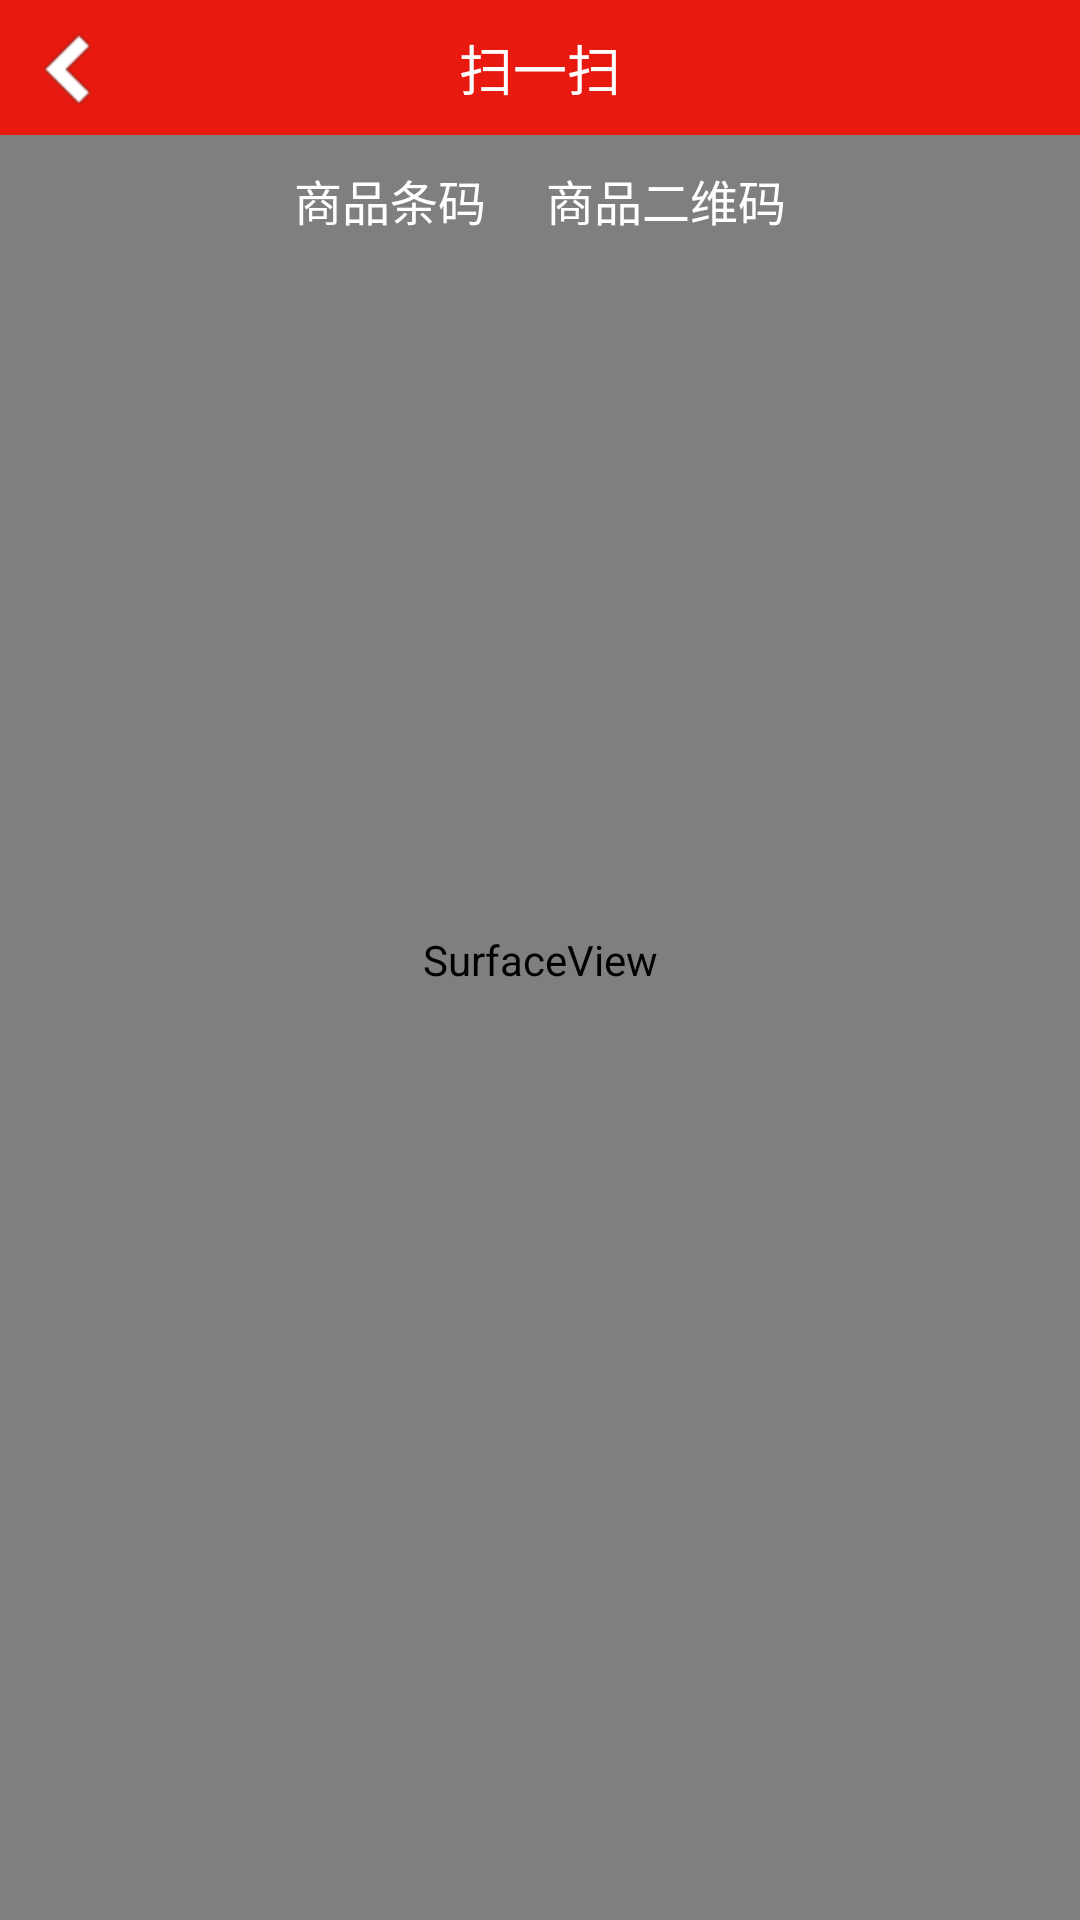

Named icons in this screenshot (1080px×1920px) and their centers, (x,y):
comm title back: (67,69)
